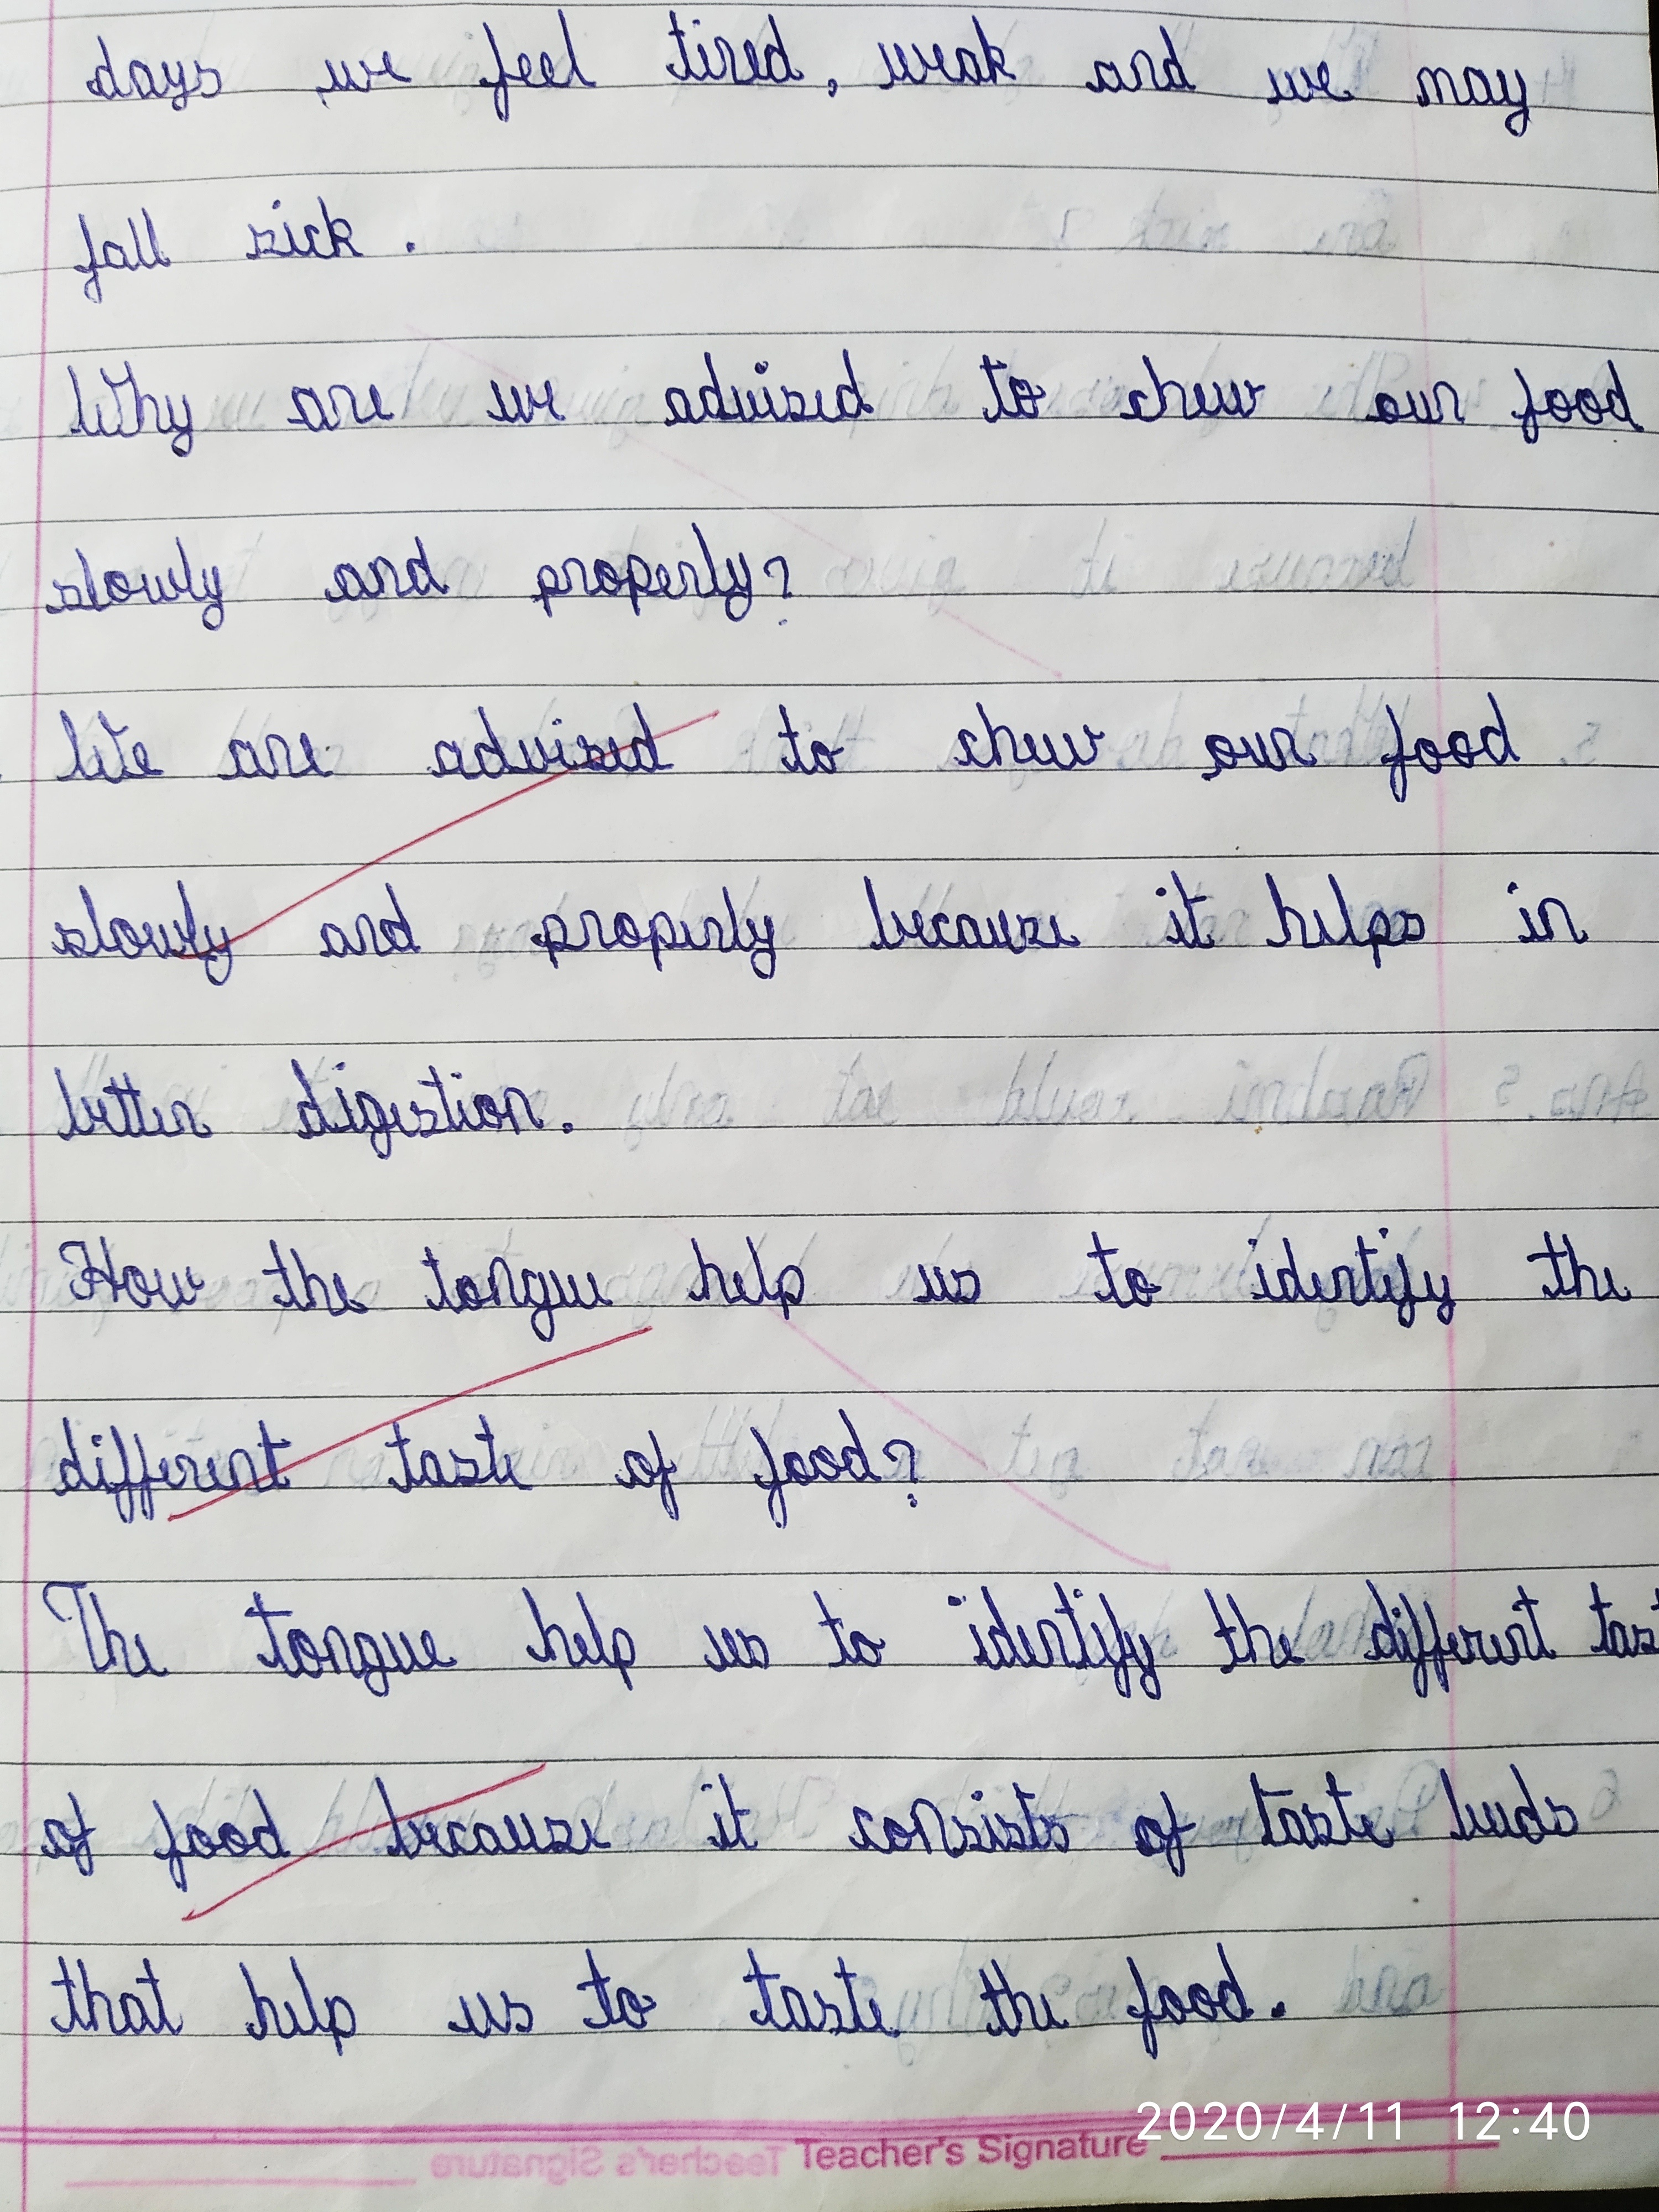H: (58, 1235, 120, 1305)
T: (59, 1580, 106, 1674)
W: (59, 707, 131, 786), (64, 362, 129, 439)
a: (225, 735, 268, 779), (289, 385, 329, 432), (117, 1991, 157, 2034), (329, 561, 371, 601), (432, 738, 472, 780), (779, 1984, 814, 2031), (1460, 64, 1499, 106), (317, 920, 356, 958), (662, 385, 699, 425), (471, 1820, 509, 1857), (1277, 1806, 1310, 1846), (1093, 57, 1129, 92), (951, 913, 986, 949), (418, 1449, 451, 1487), (127, 57, 159, 98), (953, 45, 985, 85), (101, 239, 134, 272)
b: (373, 1775, 427, 1860), (52, 1064, 99, 1136)
c: (849, 1804, 884, 1853), (953, 726, 986, 770), (444, 1818, 474, 1858), (1126, 388, 1157, 423), (929, 911, 957, 949), (301, 223, 328, 258)
d: (979, 1585, 1025, 1667), (289, 1057, 335, 1137), (1507, 1763, 1549, 1844), (836, 1407, 882, 1482), (471, 705, 516, 779), (378, 880, 422, 954), (1215, 1940, 1255, 2020), (1480, 690, 1521, 766), (1363, 1578, 1401, 1662), (54, 1414, 92, 1493), (249, 1787, 291, 1858), (1157, 23, 1197, 92), (833, 345, 870, 420), (627, 700, 664, 773), (695, 350, 732, 421), (763, 12, 798, 84), (1274, 1235, 1310, 1303), (91, 33, 127, 99), (404, 535, 441, 597), (1605, 357, 1638, 425)
e: (418, 1629, 451, 1670), (129, 740, 159, 779), (1314, 57, 1340, 99), (652, 563, 678, 599), (535, 51, 559, 87), (514, 52, 538, 87)
f: (748, 1425, 789, 1531), (1098, 1590, 1136, 1700), (1124, 1954, 1162, 2060), (150, 1797, 190, 1893), (1157, 1791, 1197, 1879), (477, 19, 511, 124), (647, 1428, 680, 1522), (1382, 704, 1412, 805), (108, 1425, 138, 1526), (71, 212, 103, 305), (66, 1791, 98, 1879), (1513, 368, 1542, 446), (132, 1430, 155, 1522), (1392, 1252, 1417, 1329)
g: (519, 1266, 558, 1345), (352, 1089, 394, 1160), (352, 1629, 390, 1698)
h: (521, 1585, 577, 1669), (87, 1590, 136, 1677), (1262, 871, 1316, 949), (237, 1959, 286, 2040), (1225, 1592, 1279, 1663), (122, 357, 166, 435), (1141, 354, 1192, 420), (75, 1958, 118, 2034), (289, 1245, 336, 1315), (974, 700, 1021, 768), (687, 1235, 732, 1305), (1561, 1231, 1601, 1301)
i: (945, 1594, 997, 1670), (1504, 880, 1542, 941), (1154, 885, 1190, 948), (699, 1782, 732, 1850), (971, 1789, 1004, 1851), (333, 1061, 361, 1134), (1246, 1237, 1277, 1301), (270, 197, 303, 258), (753, 359, 782, 421), (448, 1069, 477, 1132), (1377, 1228, 1399, 1301), (690, 17, 716, 80), (549, 716, 575, 773), (87, 1433, 112, 1493)
k: (971, 12, 1016, 84), (317, 193, 362, 258)
l: (288, 1954, 326, 2034), (554, 7, 591, 87), (575, 1590, 612, 1667), (690, 521, 725, 597), (1326, 871, 1361, 948), (77, 883, 110, 956), (176, 880, 204, 958), (744, 1233, 774, 1305), (720, 883, 749, 953), (139, 206, 171, 268), (75, 545, 101, 611), (174, 535, 200, 601), (124, 216, 150, 270)
m: (1413, 63, 1462, 105)
n: (908, 1796, 953, 1853), (1535, 895, 1584, 944), (321, 1623, 359, 1679), (1035, 1616, 1075, 1669), (502, 1087, 544, 1132), (486, 1254, 521, 1306), (225, 1446, 263, 1493), (368, 554, 404, 597), (350, 913, 383, 958), (1129, 49, 1162, 92), (1328, 1263, 1359, 1303)
o: (286, 1625, 324, 1679), (1006, 373, 1044, 420), (613, 1986, 653, 2029), (106, 914, 145, 960), (120, 1263, 155, 1310), (1204, 732, 1244, 770), (847, 1629, 887, 1667), (1122, 1266, 1159, 1308), (807, 1444, 845, 1482), (214, 1820, 253, 1858), (1445, 728, 1480, 770), (610, 909, 645, 951), (622, 1449, 659, 1487), (1572, 387, 1607, 427), (472, 1090, 505, 1132), (1187, 1980, 1220, 2022), (1157, 1982, 1188, 2026), (1412, 737, 1446, 775), (183, 1822, 218, 1860), (880, 1813, 915, 1851), (592, 556, 624, 597), (1134, 1813, 1166, 1855), (99, 570, 136, 604), (44, 1817, 75, 1857), (1542, 387, 1574, 425), (1373, 390, 1405, 425), (809, 738, 840, 773), (455, 1275, 484, 1312), (782, 1451, 812, 1486)
p: (322, 1994, 359, 2059), (645, 909, 678, 974), (624, 552, 655, 618), (610, 1625, 640, 1693), (540, 913, 573, 972), (775, 1263, 807, 1322), (1364, 909, 1394, 970), (535, 563, 561, 618)
qqbslash: (1270, 2102, 1288, 2141), (1331, 2102, 1349, 2141)
qqcolon: (1509, 2104, 1523, 2137)
qqcoma: (824, 77, 840, 99)
qqfour: (1528, 2101, 1560, 2141), (1295, 2101, 1324, 2141)
qqfstop: (1270, 2000, 1288, 2020), (404, 239, 418, 254), (561, 1120, 575, 1136)
qqone: (1358, 2101, 1377, 2142), (1448, 2101, 1467, 2142), (1385, 2101, 1403, 2142)
qqquestion: (882, 1437, 925, 1510), (762, 554, 795, 627)
qqtwo: (1474, 2101, 1502, 2142), (1136, 2101, 1162, 2142), (1202, 2101, 1229, 2142)
qqzero: (1169, 2101, 1197, 2142), (1563, 2101, 1591, 2142)
r: (1457, 1623, 1493, 1665)
s: (498, 1987, 537, 2034), (49, 920, 91, 960), (1300, 1801, 1337, 1846), (446, 1447, 484, 1487), (540, 1815, 580, 1853), (1037, 1811, 1072, 1853), (948, 1266, 983, 1306), (573, 732, 606, 773), (950, 1813, 985, 1851), (408, 1099, 441, 1139), (244, 221, 279, 258), (193, 59, 223, 99), (777, 385, 810, 420), (51, 578, 85, 611), (1398, 907, 1427, 944), (1014, 913, 1044, 948)
t: (1051, 1580, 1096, 1667), (246, 1590, 293, 1674), (1168, 867, 1213, 949), (1513, 1585, 1558, 1660), (744, 1947, 784, 2031), (810, 1588, 854, 1665), (716, 1771, 758, 1850), (51, 1954, 89, 2033), (1323, 1770, 1363, 1843), (582, 1947, 619, 2027), (1087, 1228, 1124, 1306), (833, 1954, 870, 2033), (141, 1958, 178, 2034), (263, 1238, 301, 1310), (254, 1418, 291, 1491), (385, 1420, 420, 1491), (418, 1244, 455, 1312), (976, 1966, 1011, 2034), (777, 702, 810, 773), (1011, 1780, 1044, 1850), (666, 9, 697, 82), (978, 350, 1009, 420), (1539, 1230, 1570, 1299), (474, 1413, 504, 1486), (427, 1064, 458, 1132), (122, 1069, 152, 1137), (103, 1075, 134, 1137), (1588, 1580, 1614, 1655), (1354, 1233, 1380, 1303)
u: (457, 1989, 500, 2040), (380, 1629, 423, 1674), (702, 1623, 742, 1667), (502, 1811, 542, 1855), (547, 1268, 587, 1310), (915, 1261, 951, 1305), (1480, 1799, 1516, 1839), (1405, 388, 1434, 425)
v: (514, 735, 552, 775), (728, 383, 763, 423)
w: (1040, 721, 1107, 772), (486, 378, 538, 427), (877, 40, 929, 85), (1209, 378, 1262, 420), (1263, 64, 1317, 103), (153, 1264, 200, 1308), (322, 57, 378, 94), (139, 566, 186, 604), (141, 920, 188, 958)
y: (1202, 1587, 1244, 1669), (1122, 1630, 1164, 1703), (1493, 66, 1534, 138), (744, 914, 779, 982), (723, 550, 755, 624), (164, 392, 197, 458), (202, 923, 235, 986), (1422, 1268, 1457, 1327), (197, 564, 227, 632), (160, 59, 190, 111)
